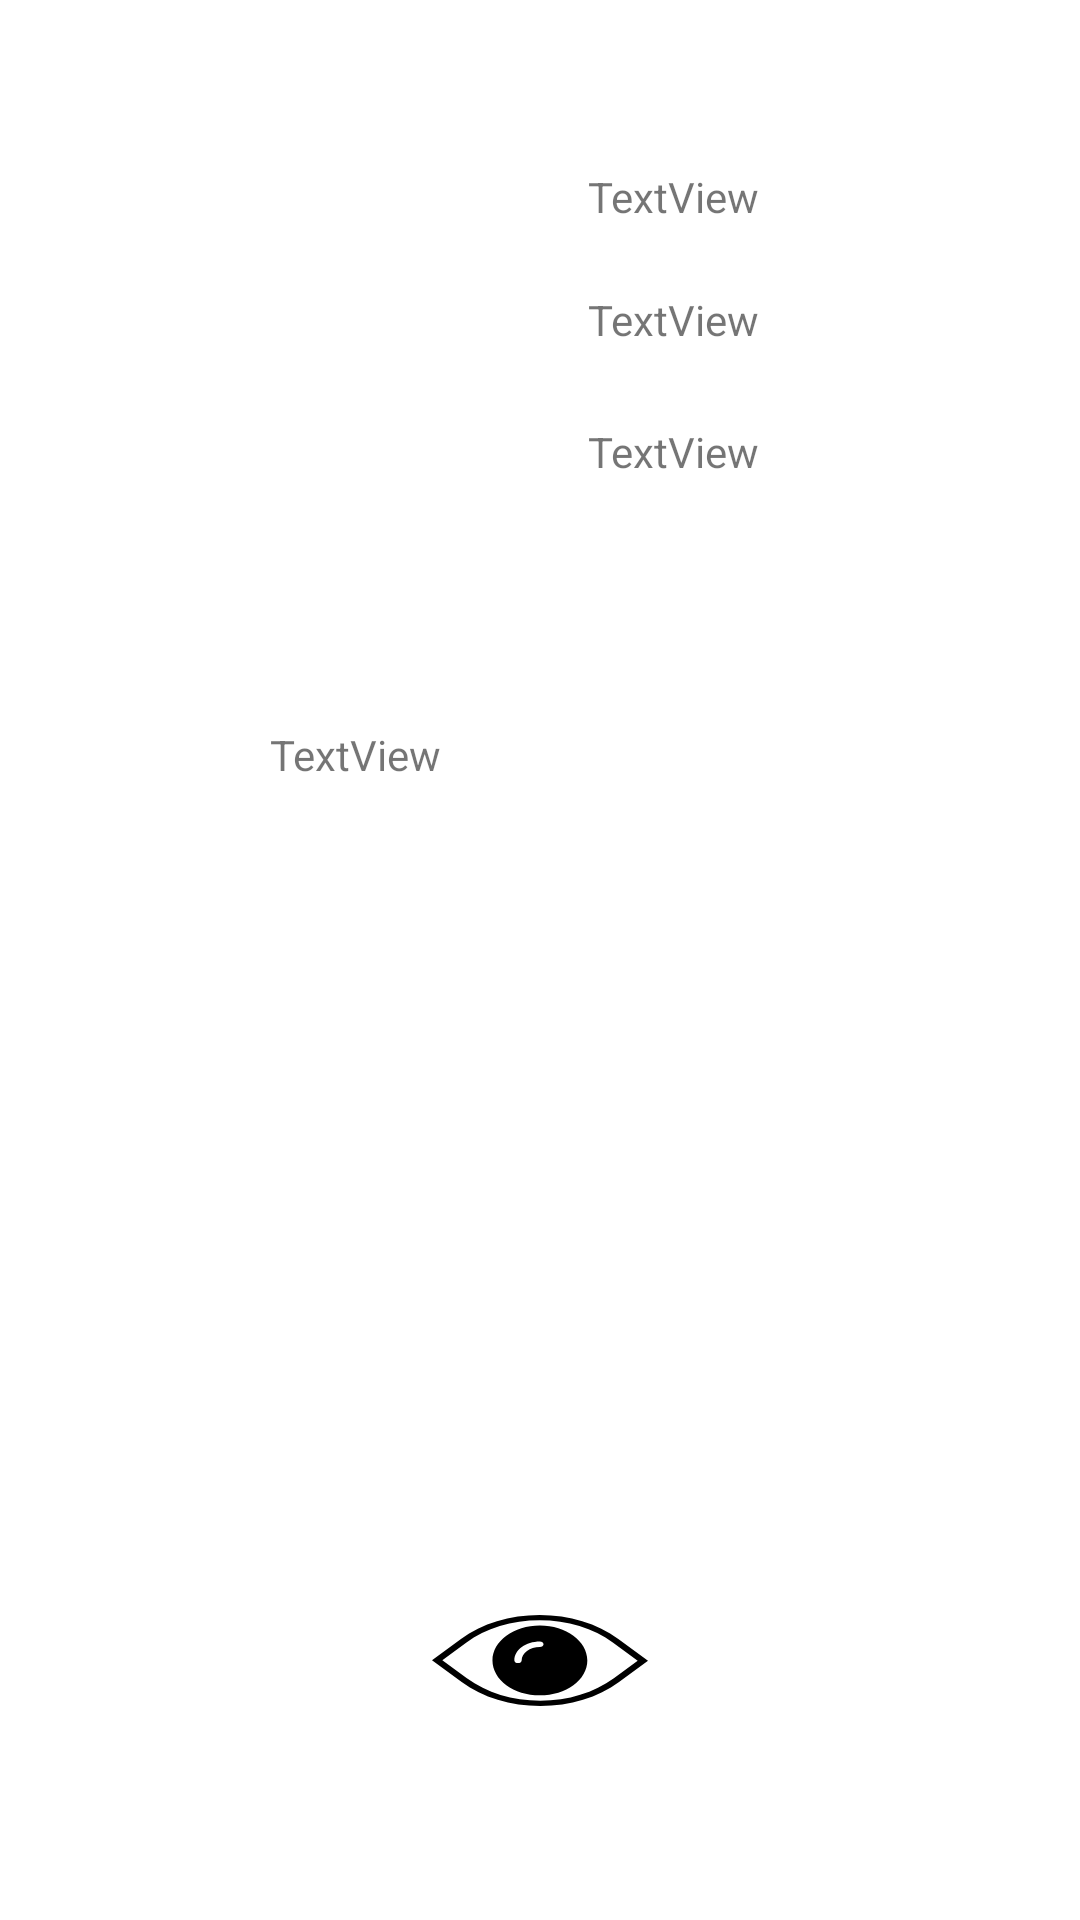

Screen size 1080 × 1920. Icon name, then its center in pixels as (x=x, y=y):
ver: (x=540, y=1660)
